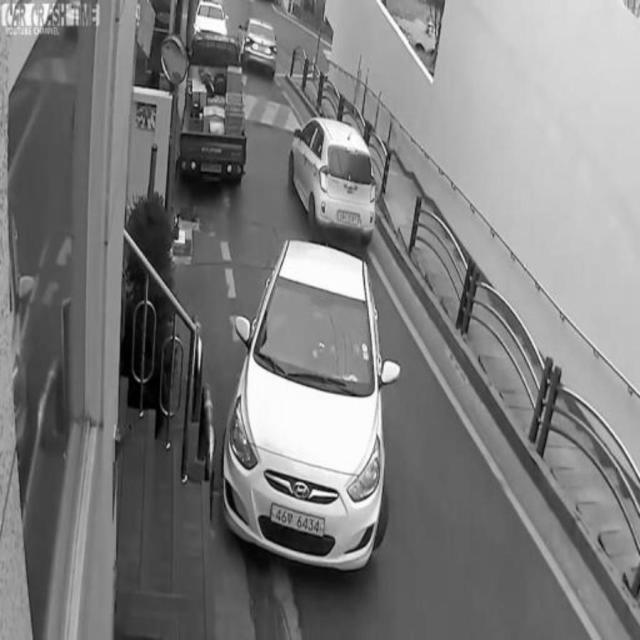vehicle: (224, 240, 390, 560), (288, 110, 378, 231), (180, 27, 248, 187), (238, 10, 278, 78)
